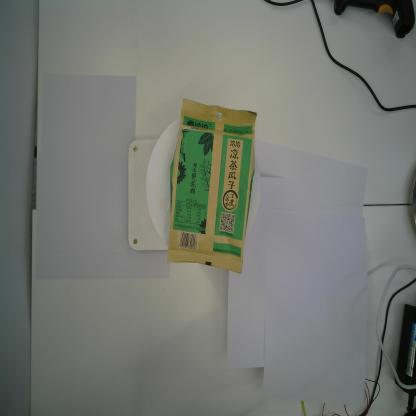Dried Food: (166, 96, 258, 276)
